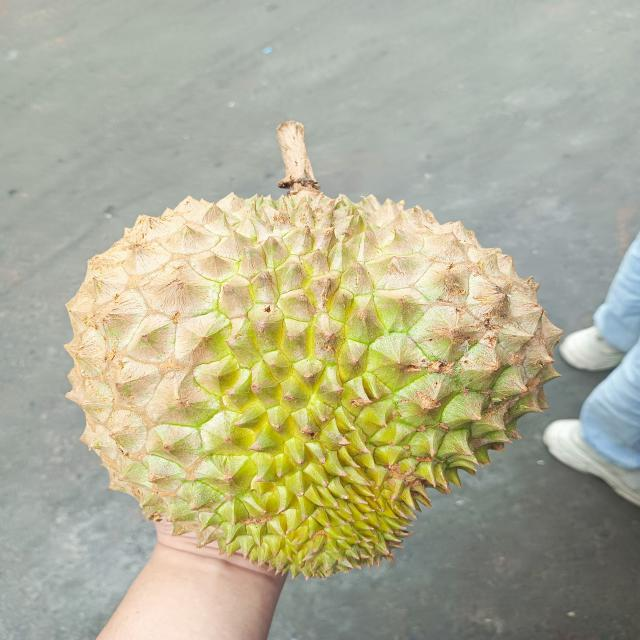mature: (72, 121, 561, 578)
